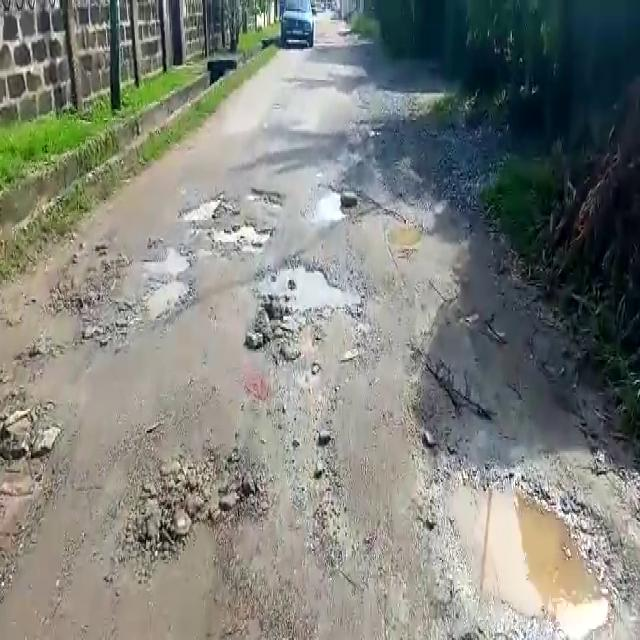Pothole: (414, 472, 634, 632), (261, 261, 361, 303), (208, 218, 272, 252), (304, 185, 352, 224), (181, 196, 227, 225), (382, 217, 425, 247)
